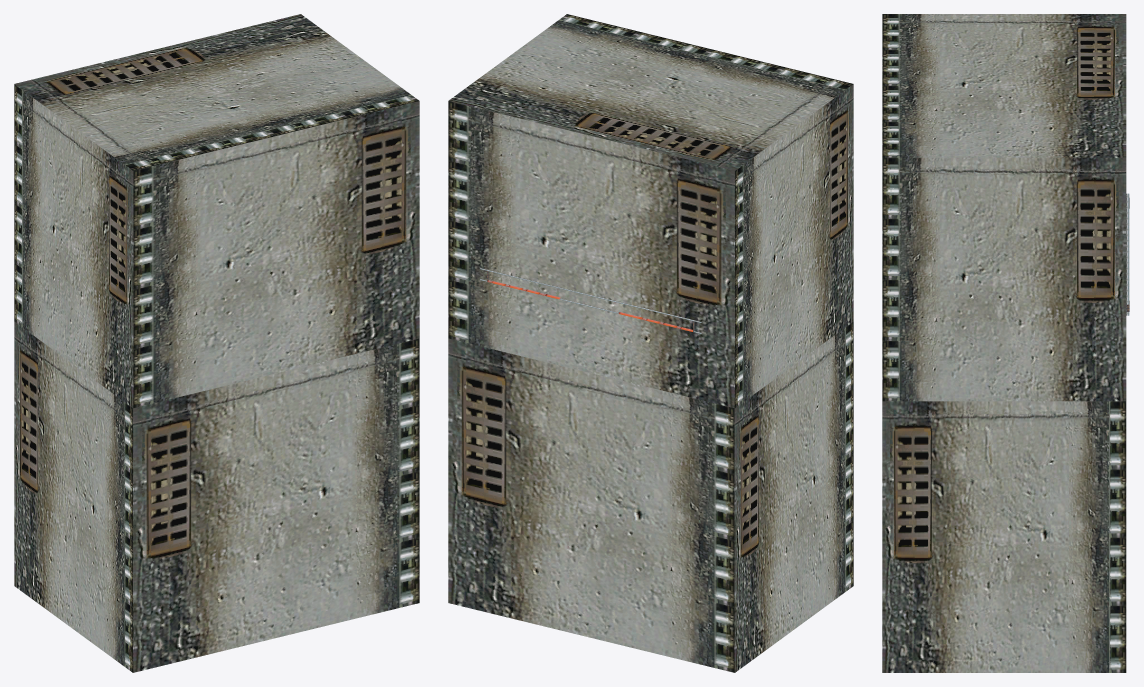
Rendered from SecurityHall.obj.
3 views of the same model, side by side, from view 1: azimuth 30°, elevation 25°; view 2: azimuth 150°, elevation 25°; view 3: azimuth 270°, elevation 25° (orthographic). The views are drawn at different scales.
Size of the model in its own units: 1100 by 1840 by 800.
Materials: 29 (29 with a texture image).
